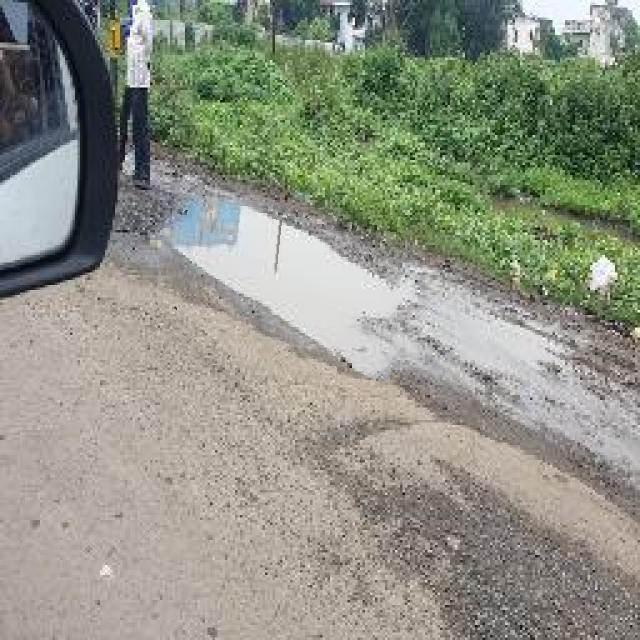puddle: (154, 199, 404, 377)
